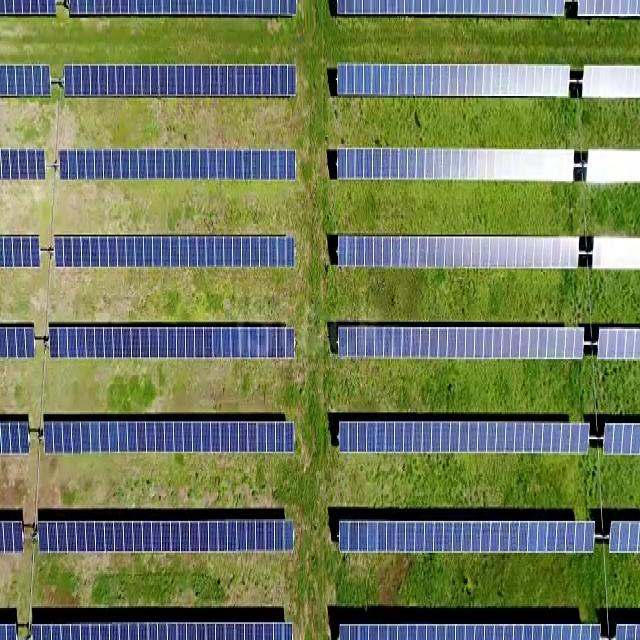Solar-panels: (44, 418, 296, 456), (38, 520, 297, 555), (337, 147, 574, 183), (57, 235, 293, 271), (339, 63, 572, 98), (53, 328, 295, 361), (340, 523, 596, 554), (338, 328, 584, 360), (62, 150, 296, 180), (342, 427, 593, 454), (339, 240, 579, 268), (66, 68, 298, 96)
